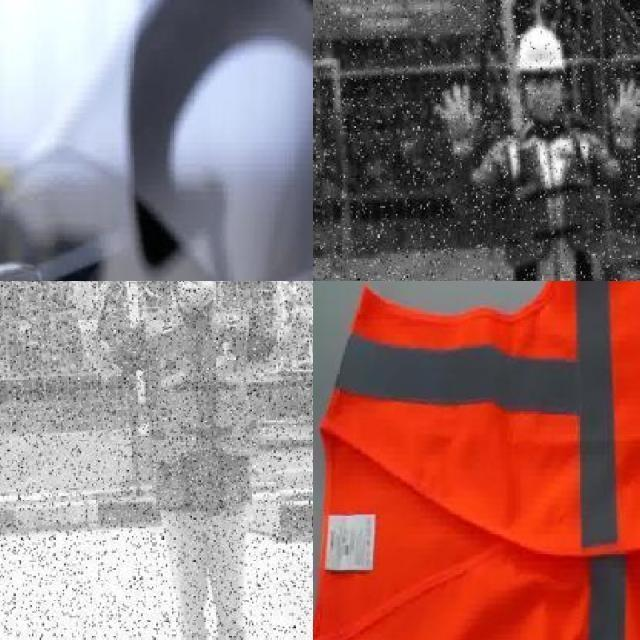apron: (432, 81, 484, 158), (606, 80, 640, 149), (69, 281, 106, 337), (279, 281, 313, 320)
